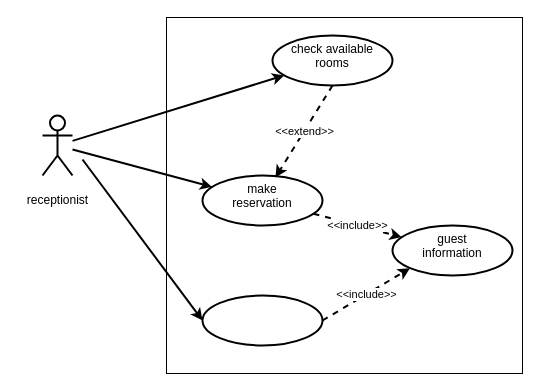
Some shapes in this 540 by 391 pixel diagram are drawn without their labels. Each missing label, with the box of its shape:
Actor: (41, 114, 73, 176)
calculate price: (201, 294, 323, 346)
